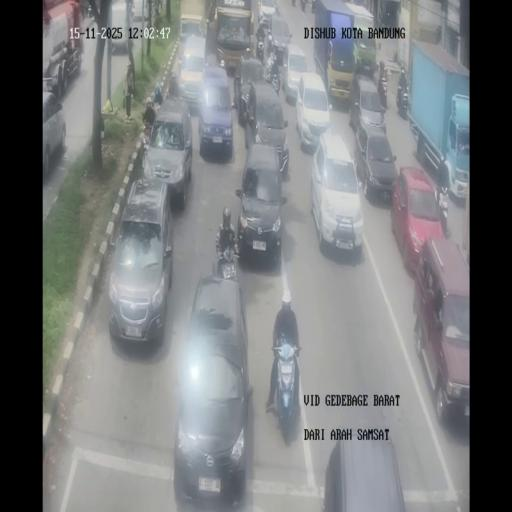car: (174, 274, 251, 503), (107, 180, 174, 344), (412, 240, 469, 423), (324, 430, 406, 510), (311, 132, 363, 256), (392, 168, 447, 273), (142, 99, 193, 206), (242, 80, 290, 172), (197, 65, 235, 158), (356, 129, 398, 203), (295, 71, 330, 153), (349, 74, 384, 137), (42, 89, 66, 178), (178, 36, 207, 109), (108, 0, 136, 54), (268, 14, 292, 64), (257, 0, 278, 28), (131, 0, 145, 22)
motorcycle: (271, 334, 302, 435), (214, 234, 239, 280), (396, 71, 410, 119), (437, 184, 449, 234), (266, 57, 281, 93), (238, 90, 248, 127), (142, 113, 153, 146), (378, 74, 388, 110), (168, 71, 179, 99), (256, 36, 266, 64), (154, 79, 163, 105), (300, 0, 306, 12), (310, 0, 316, 12), (87, 3, 92, 17)
truck: (407, 42, 469, 200), (313, 0, 359, 103), (43, 0, 85, 99), (213, 2, 255, 75), (354, 35, 377, 74)
